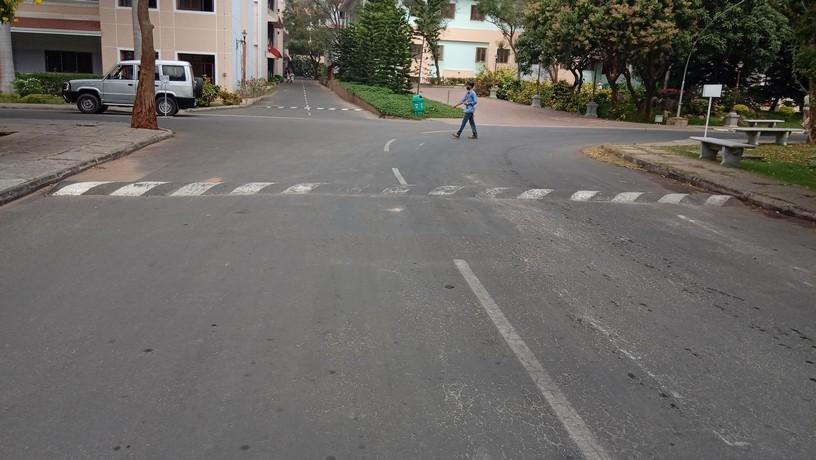speedbreaker: (58, 176, 739, 214)
